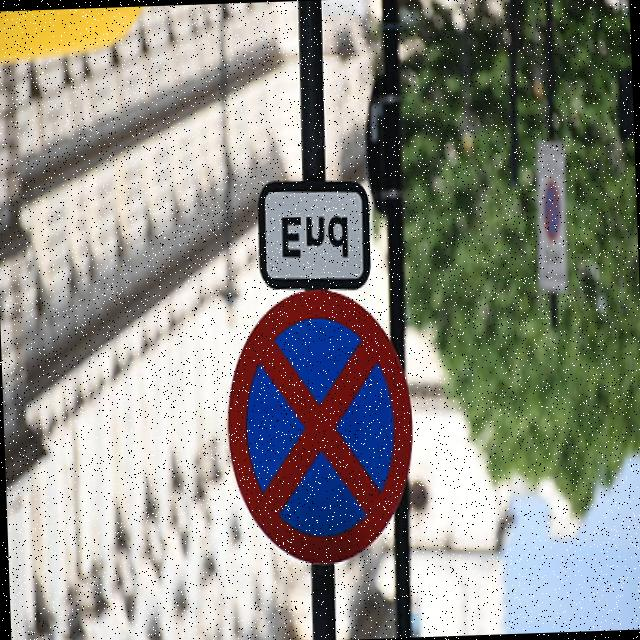no_parking: (219, 288, 423, 580)
